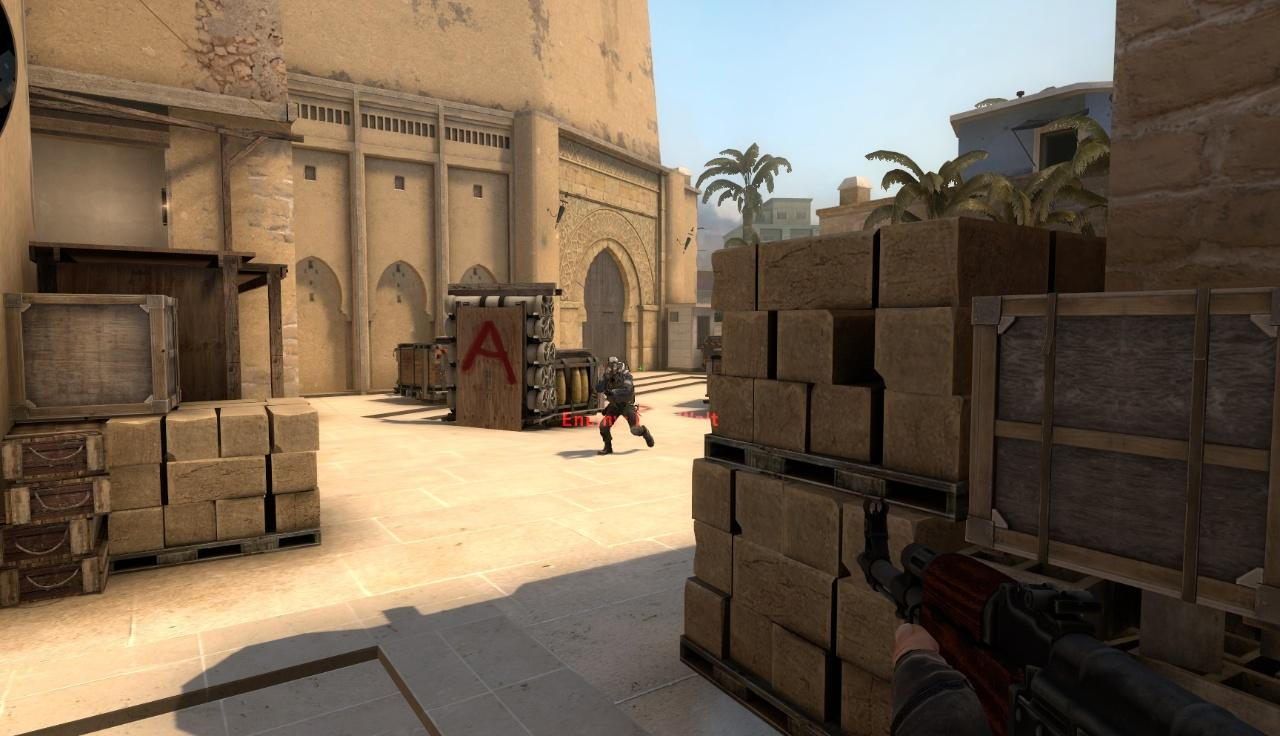ct: (596, 356, 654, 454)
cthead: (607, 357, 619, 375)
rifle: (858, 495, 1280, 736)
